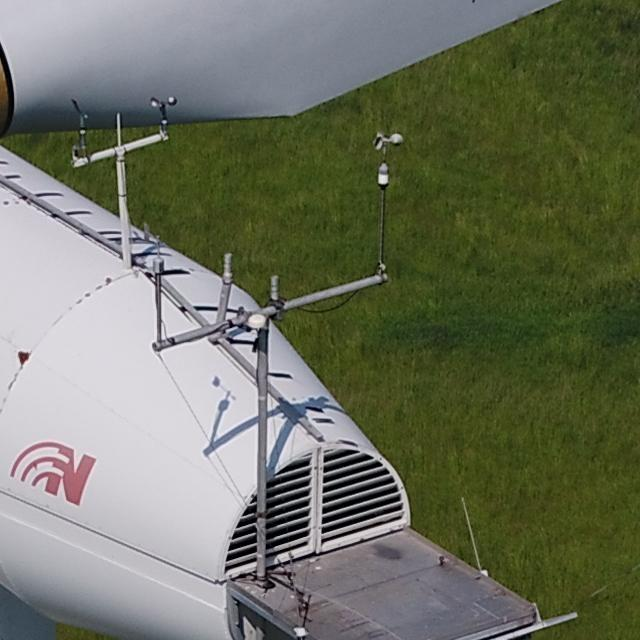damage: (17, 347, 30, 369)
